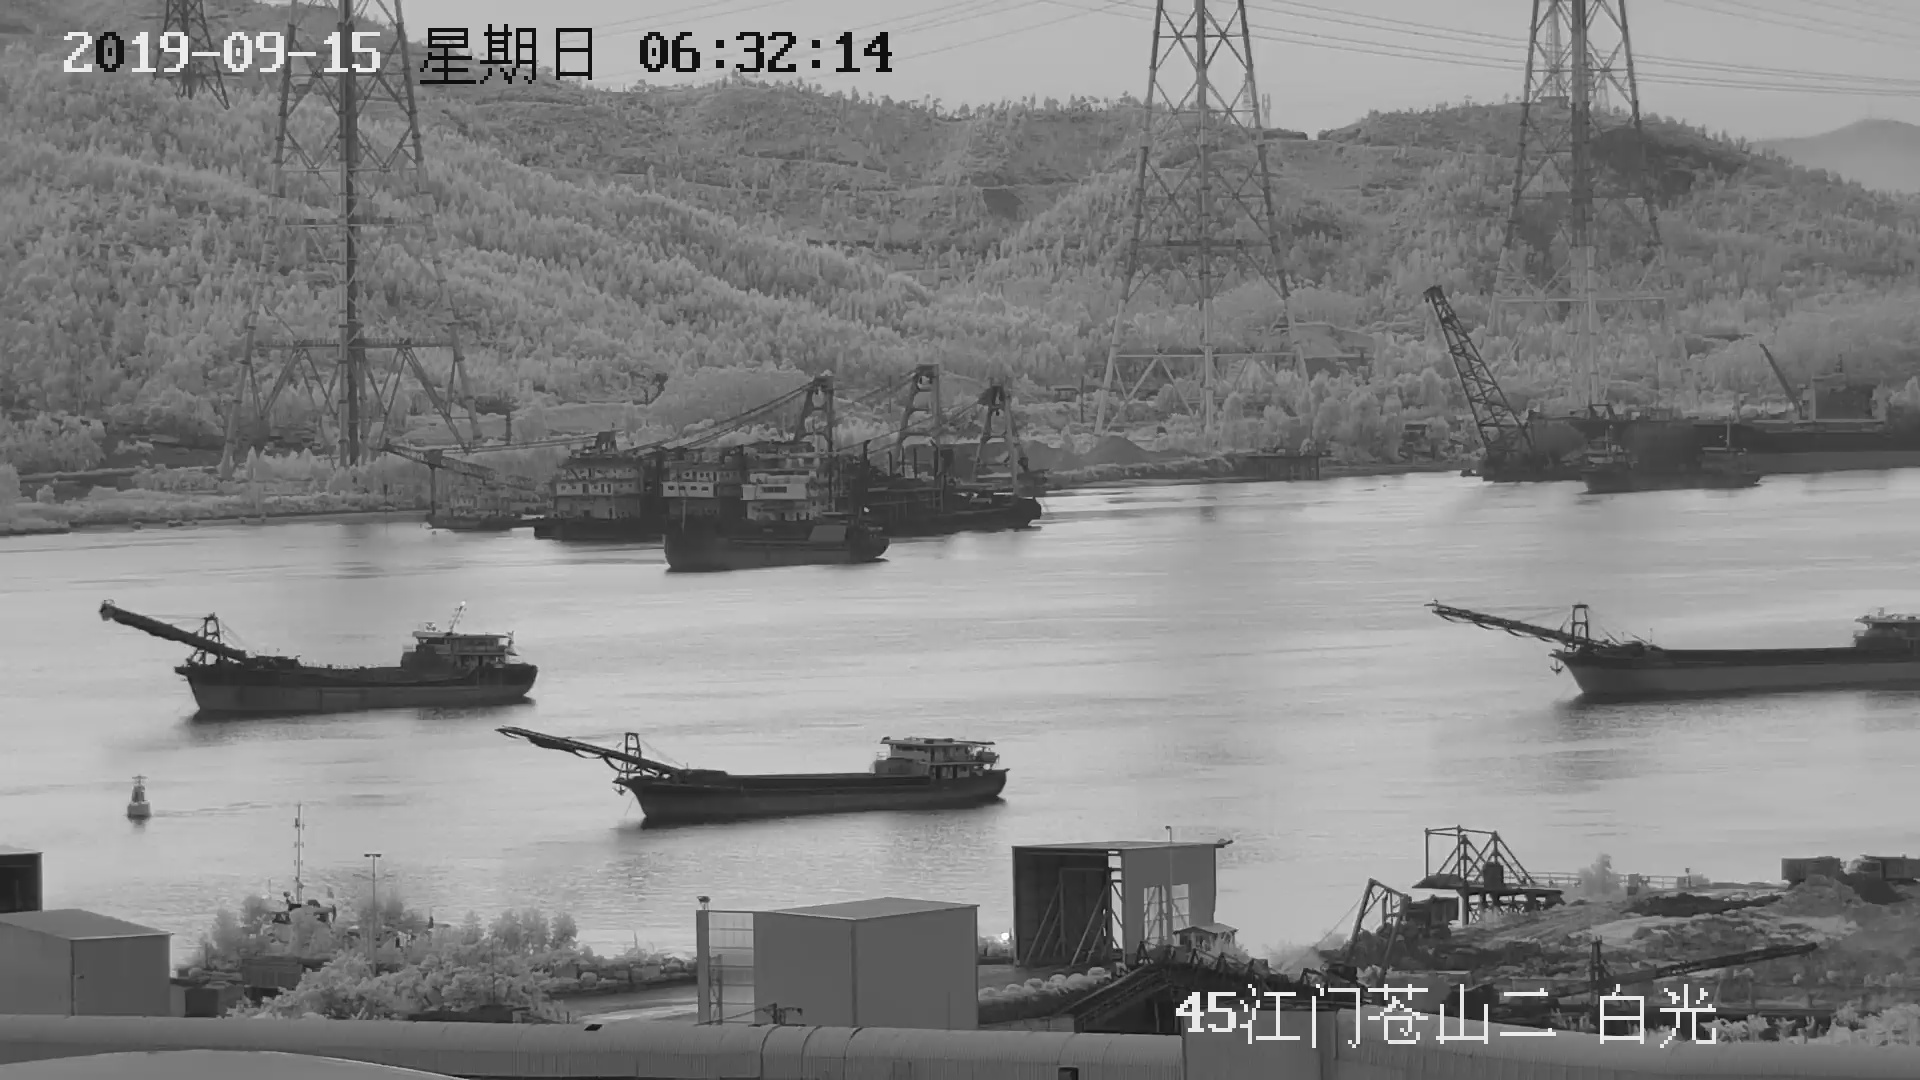ship: (496, 723, 1013, 837), (1436, 582, 1913, 698), (109, 599, 539, 723)
